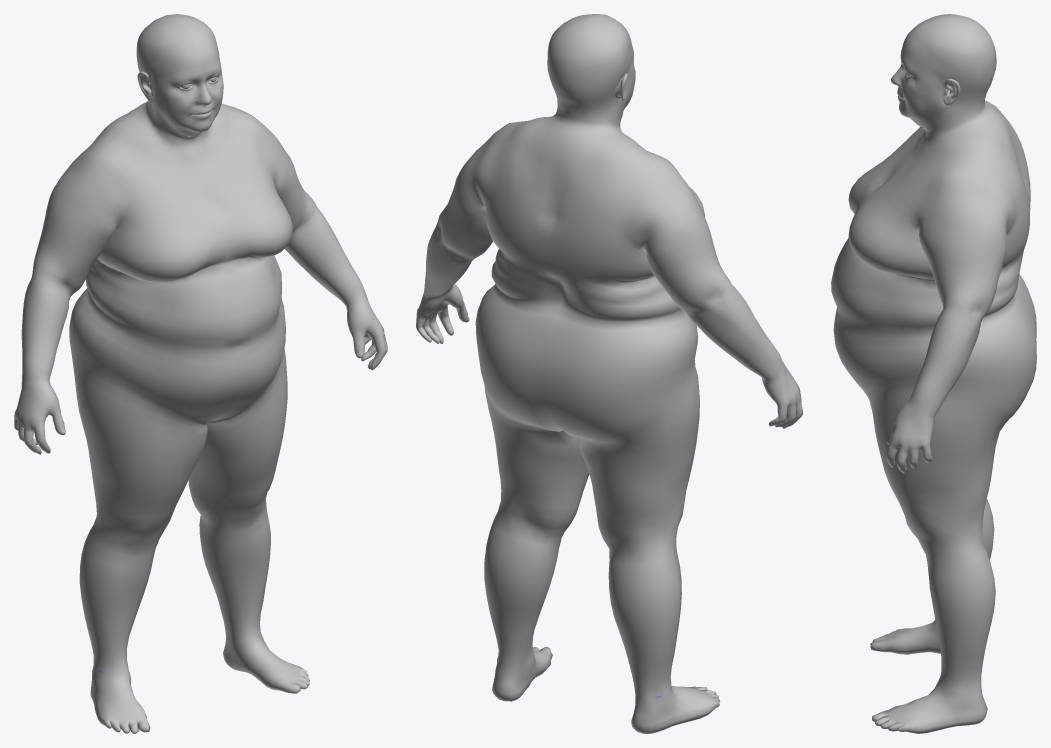
The model's file is 1135011-crossleg-red+yellow.gltf.
3 renders of one model, left to right at view 1: azimuth 30°, elevation 25°; view 2: azimuth 150°, elevation 25°; view 3: azimuth 270°, elevation 25°, orthographic. The views are drawn at different scales.
Visible parts, largest first — view 1: mc-Female_61in_250lbs-a-pose; view 2: mc-Female_61in_250lbs-a-pose; view 3: mc-Female_61in_250lbs-a-pose.
Part boxes in pixels (x1,y1,x2,y2): mc-Female_61in_250lbs-a-pose: (14, 14, 387, 733); mc-Female_61in_250lbs-a-pose: (416, 14, 802, 733); mc-Female_61in_250lbs-a-pose: (831, 14, 1036, 733).
Bounding box in the file's own units: 2.64 × 4.66 × 1.3.
1 material, 1 textured.
